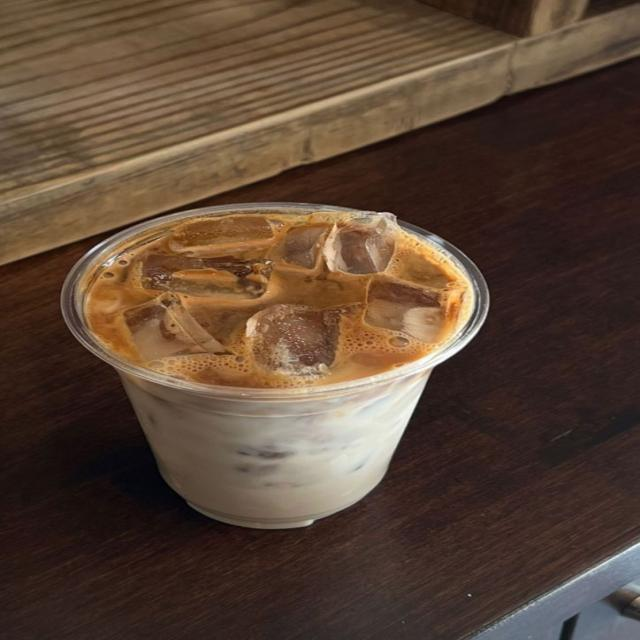plastic cup: (58, 202, 490, 530)
